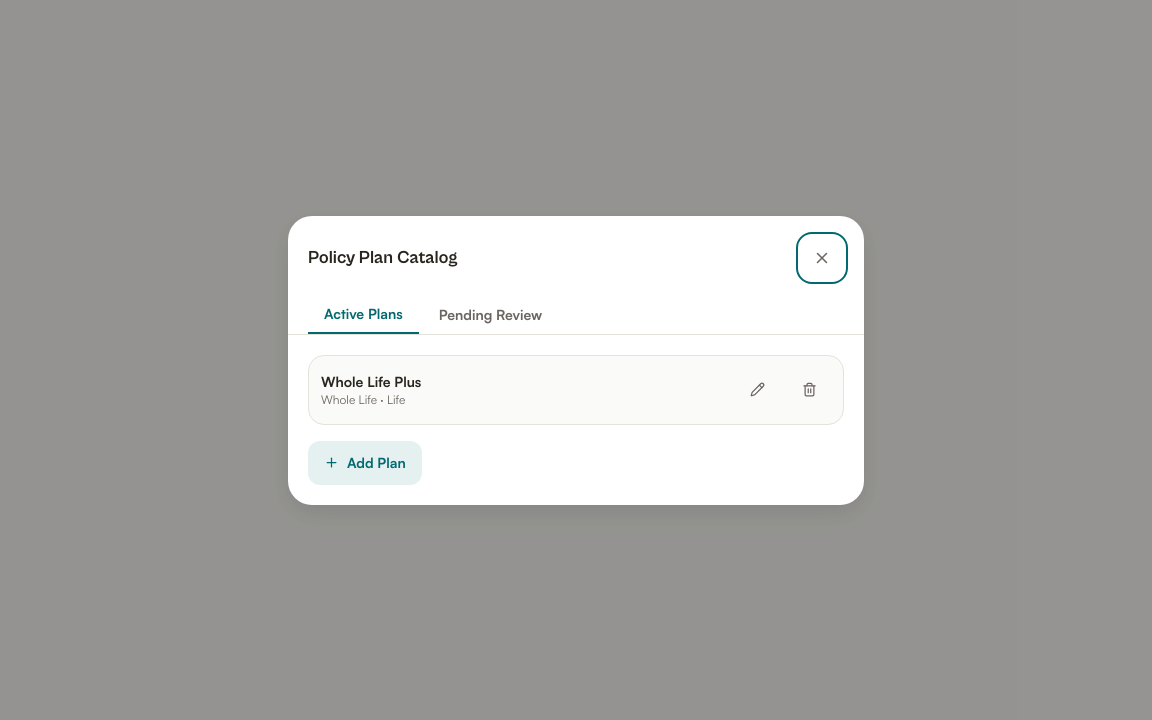
Test: Active Plans tab › Edit click opens edit form pre-filled
What coordinates should you click on to do the following:
click the button named "Edit Whole Life Plus"
I would click on:
 (757, 390)
Its box is [735,368,779,412].
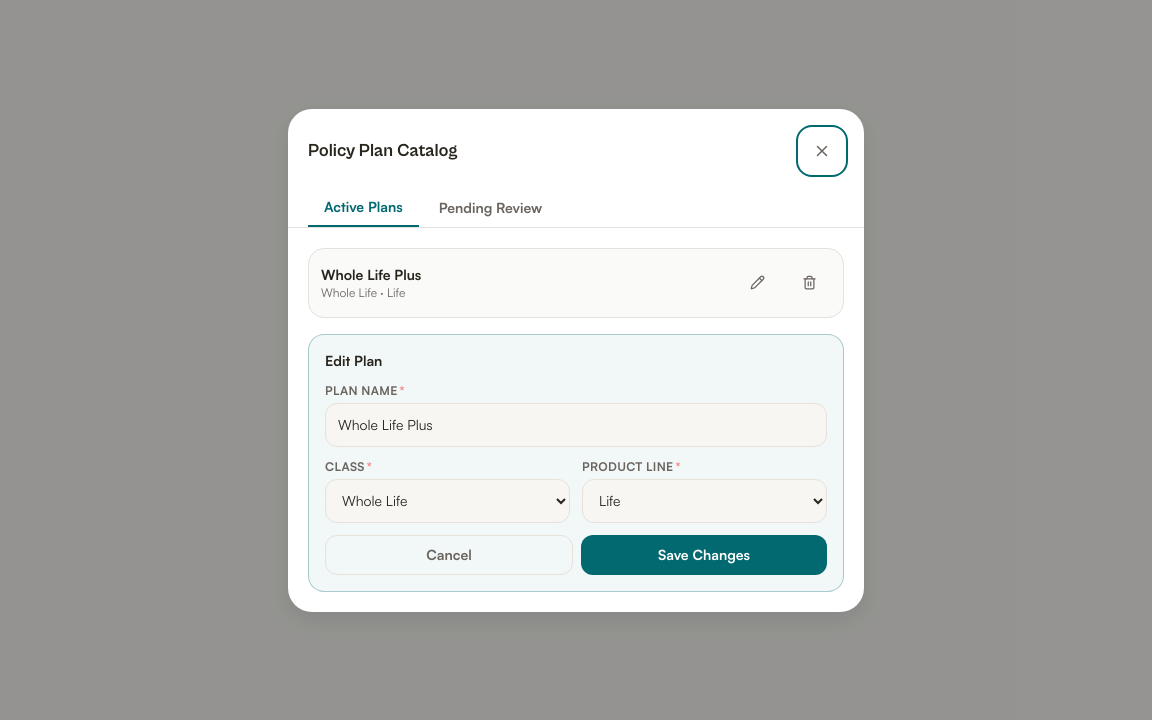
expect the form with test id "plan-form" is shown: met, box [308,334,844,592]
expect the text "Edit Plan" is shown: met, box [325,352,382,368]
expect the field showing "Whole Life Plus" is shown: met, box [325,402,827,446]
